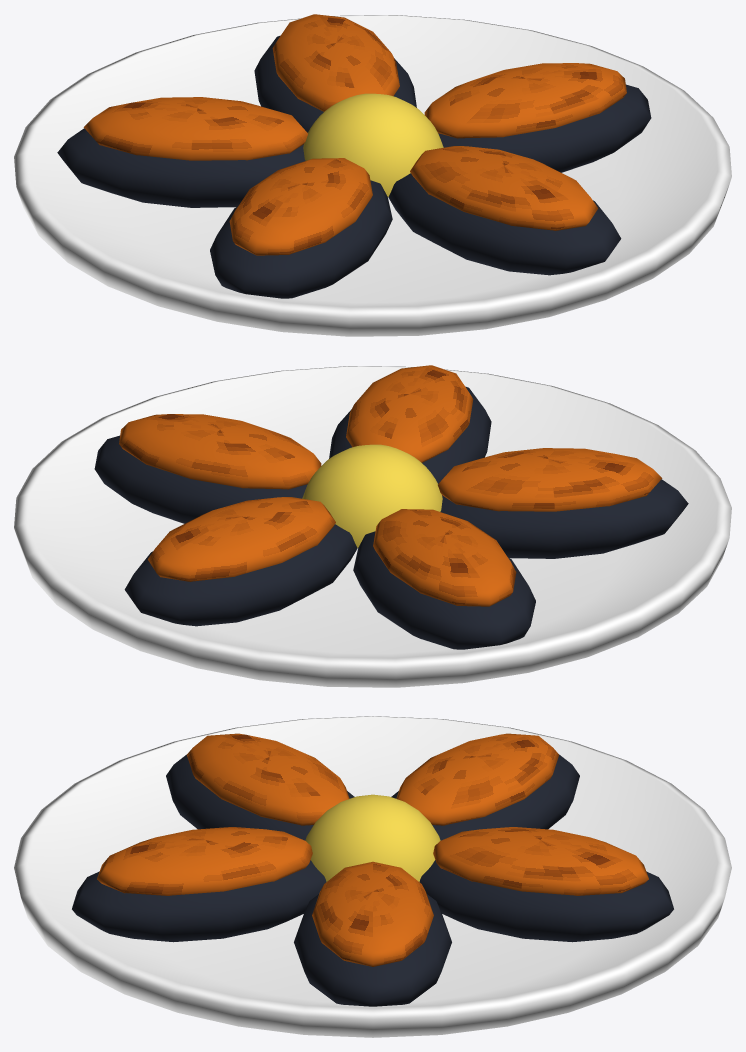
File: midye.glb
3 renders of one model, top to bottom at view 1: azimuth 30°, elevation 25°; view 2: azimuth 150°, elevation 25°; view 3: azimuth 270°, elevation 25°, orthographic.
Visible parts, largest first — view 1: midye-tabagi; view 2: midye-tabagi; view 3: midye-tabagi.
Part boxes in pixels (left/top/right/bottom): midye-tabagi: left=14, top=14, right=731, bottom=336; midye-tabagi: left=14, top=365, right=731, bottom=687; midye-tabagi: left=14, top=716, right=731, bottom=1037.
Size of the model in its own units: 0.2448 by 0.045 by 0.2448.
4 materials, 1 textured.
